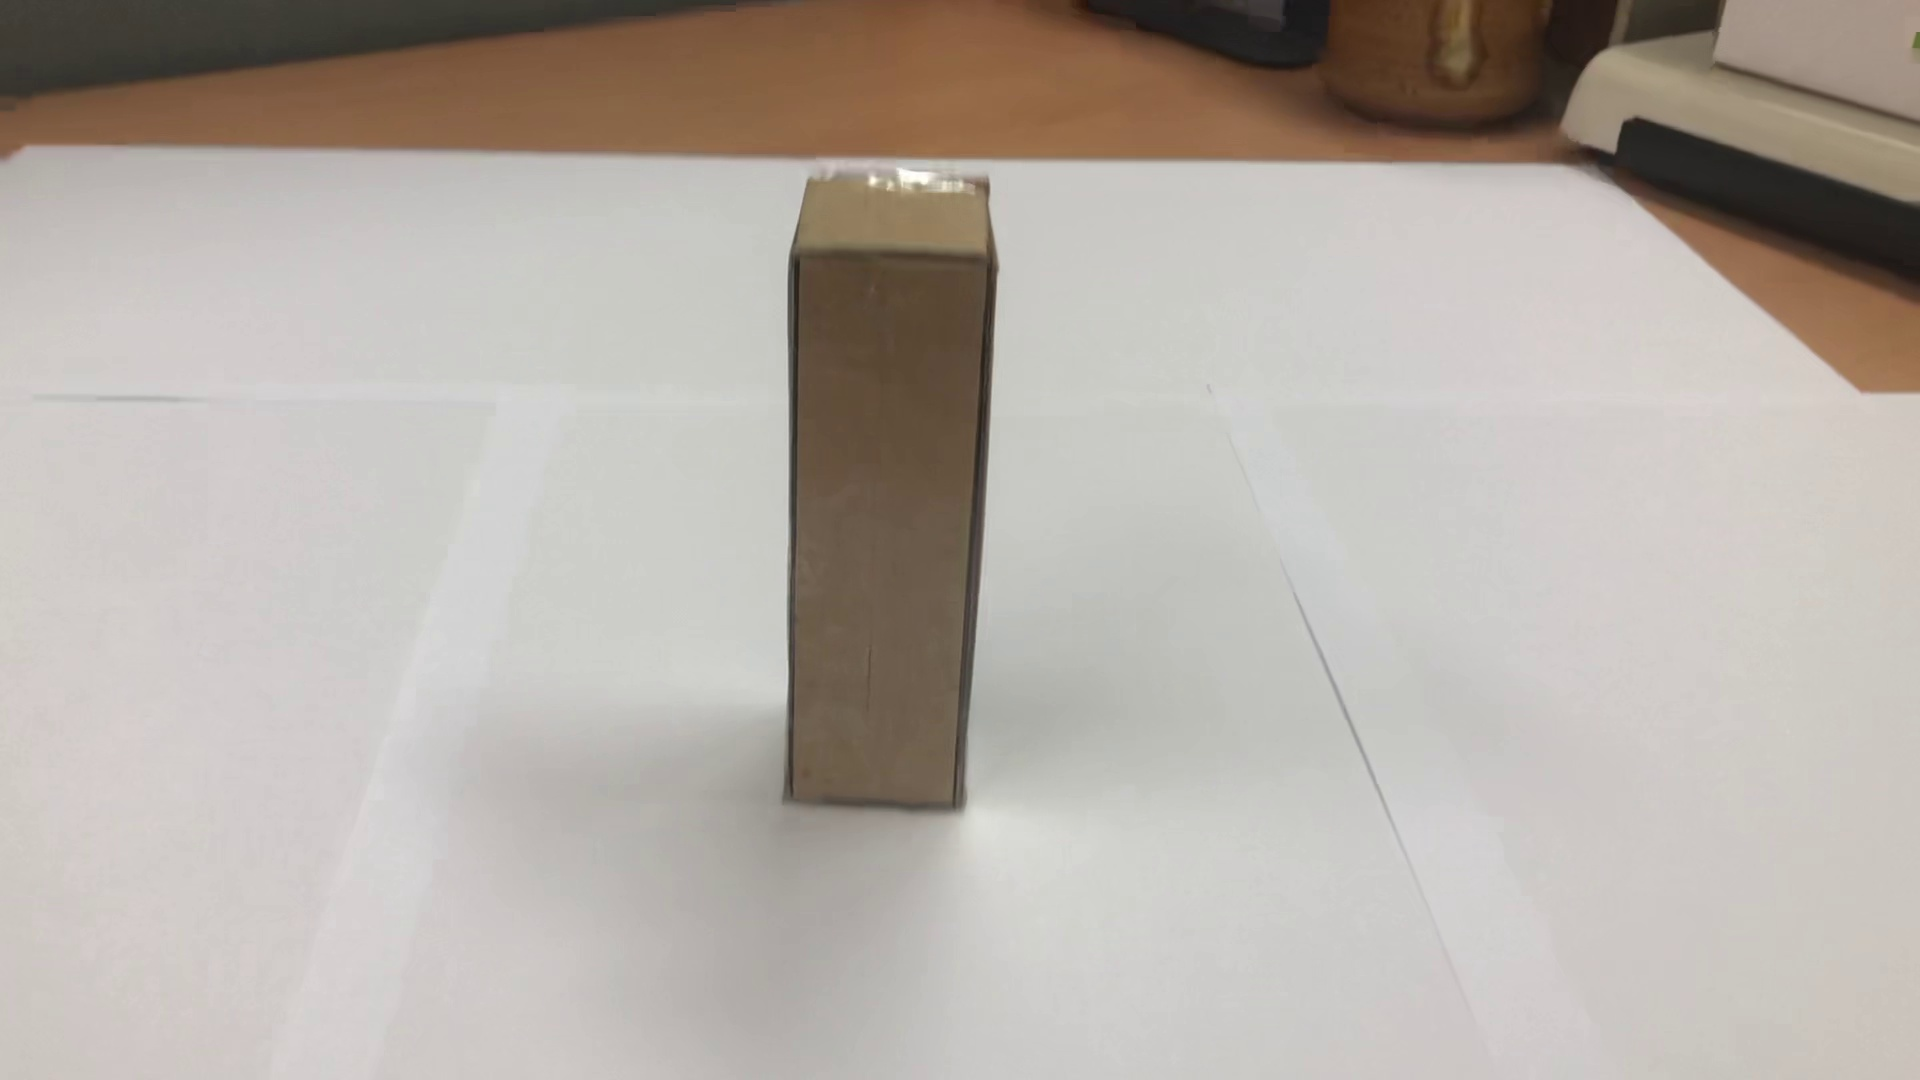box: (752, 152, 1009, 843)
